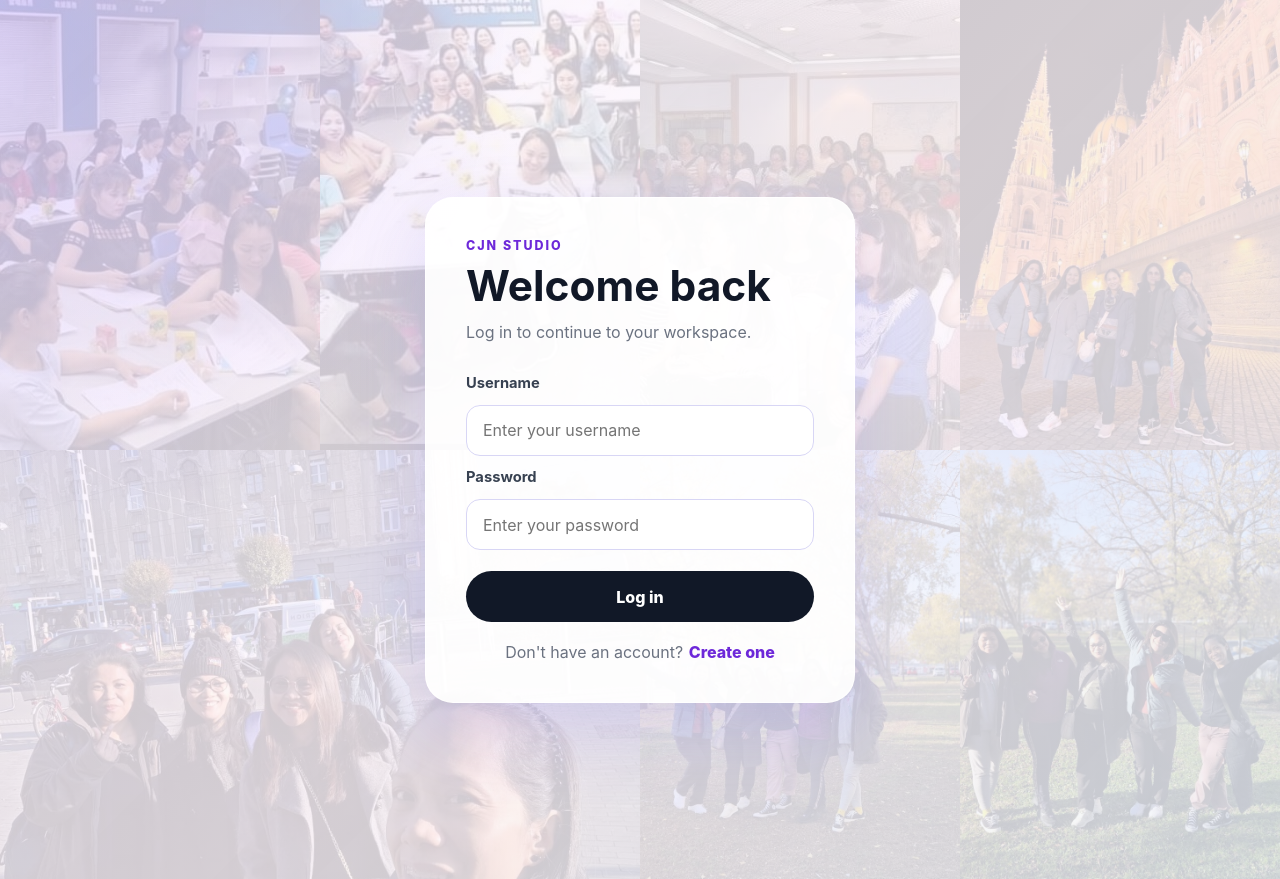
Test: shows applicant information when a suggested applicant name is clicked
This screenshot has width=1280, height=879.
Type "wendell" into the field labelled "Username".
click(640, 430); type("wendell")  # box [466,405,814,456]
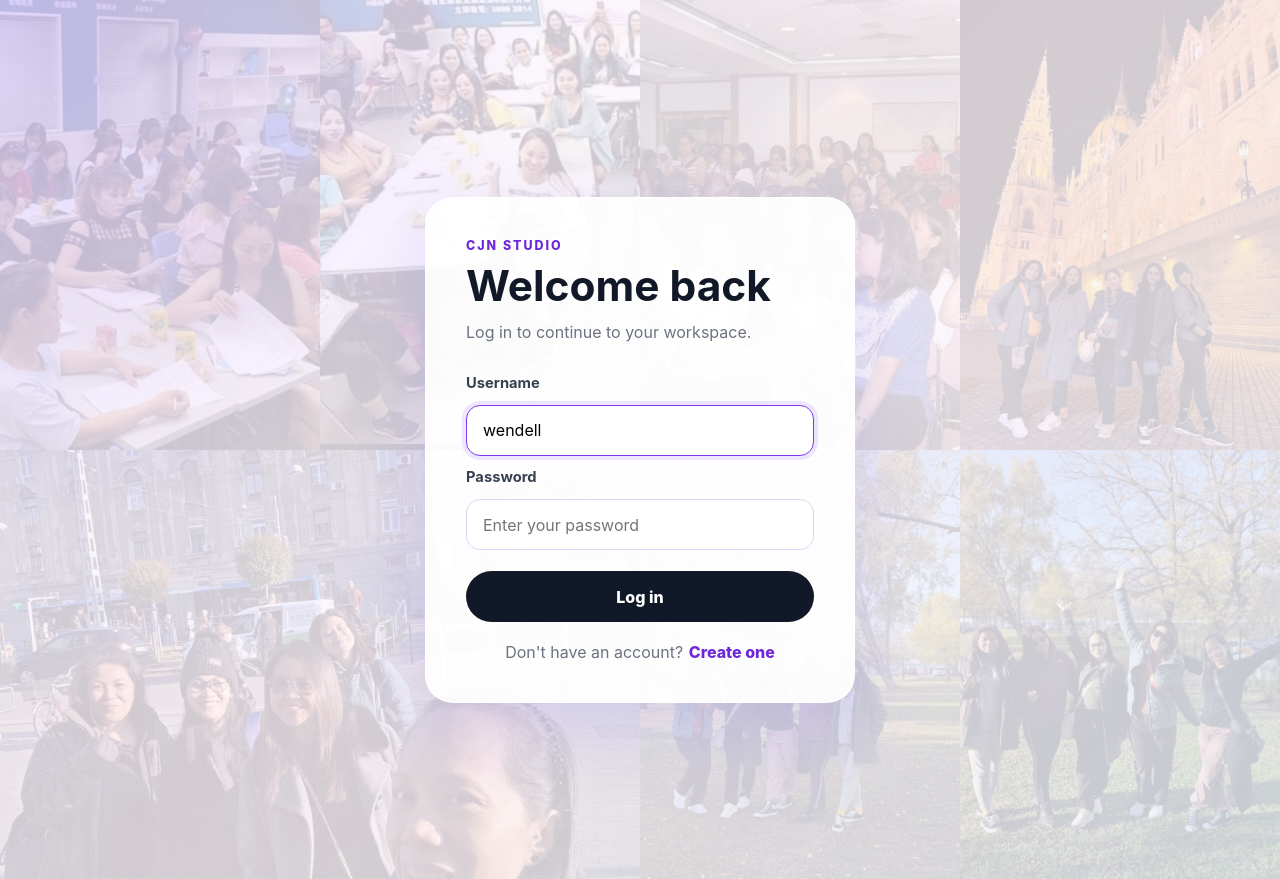
Type "password123" into the password field labelled "Password".
click(640, 524); type("password123")  # box [466,499,814,550]
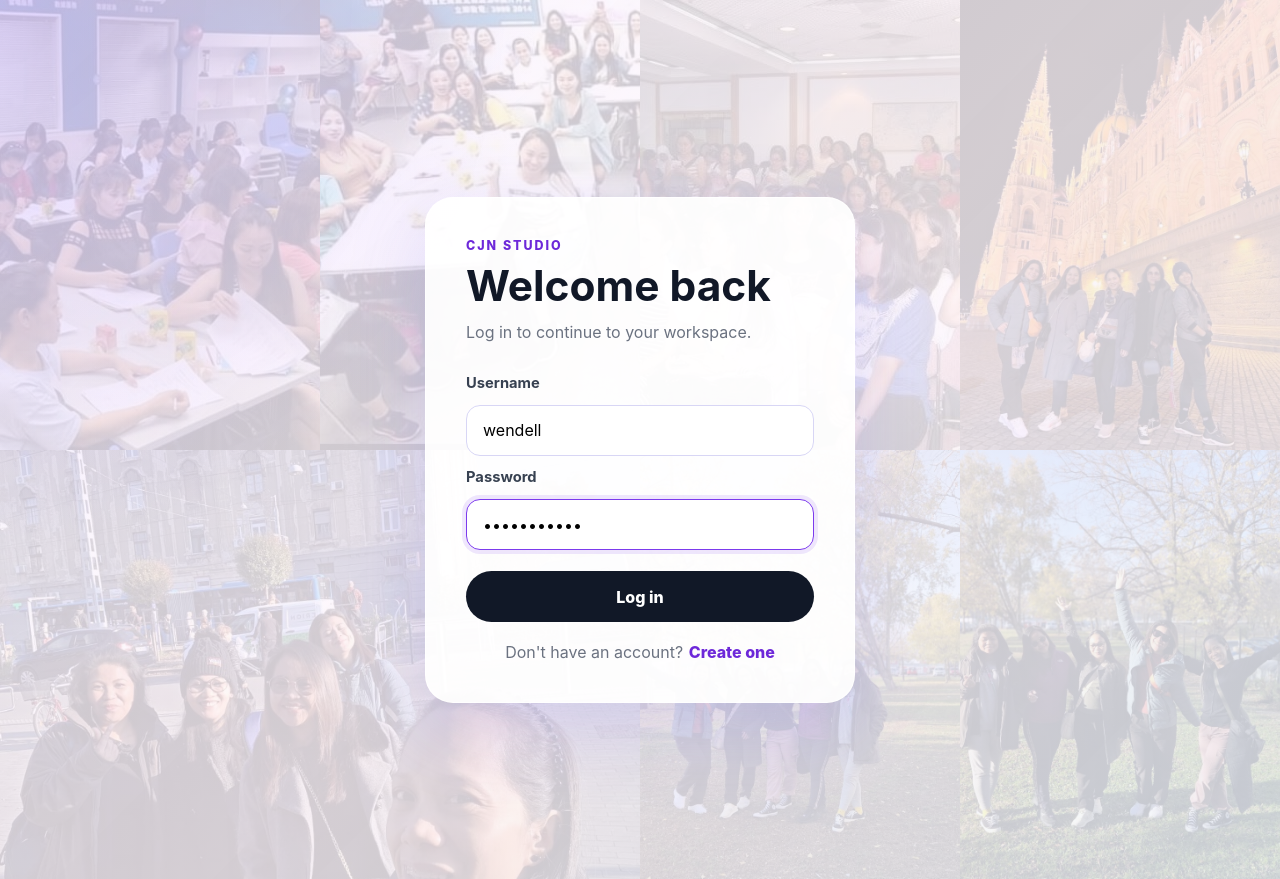
Click the button "Log in".
click(640, 597)  # box [466,572,814,622]
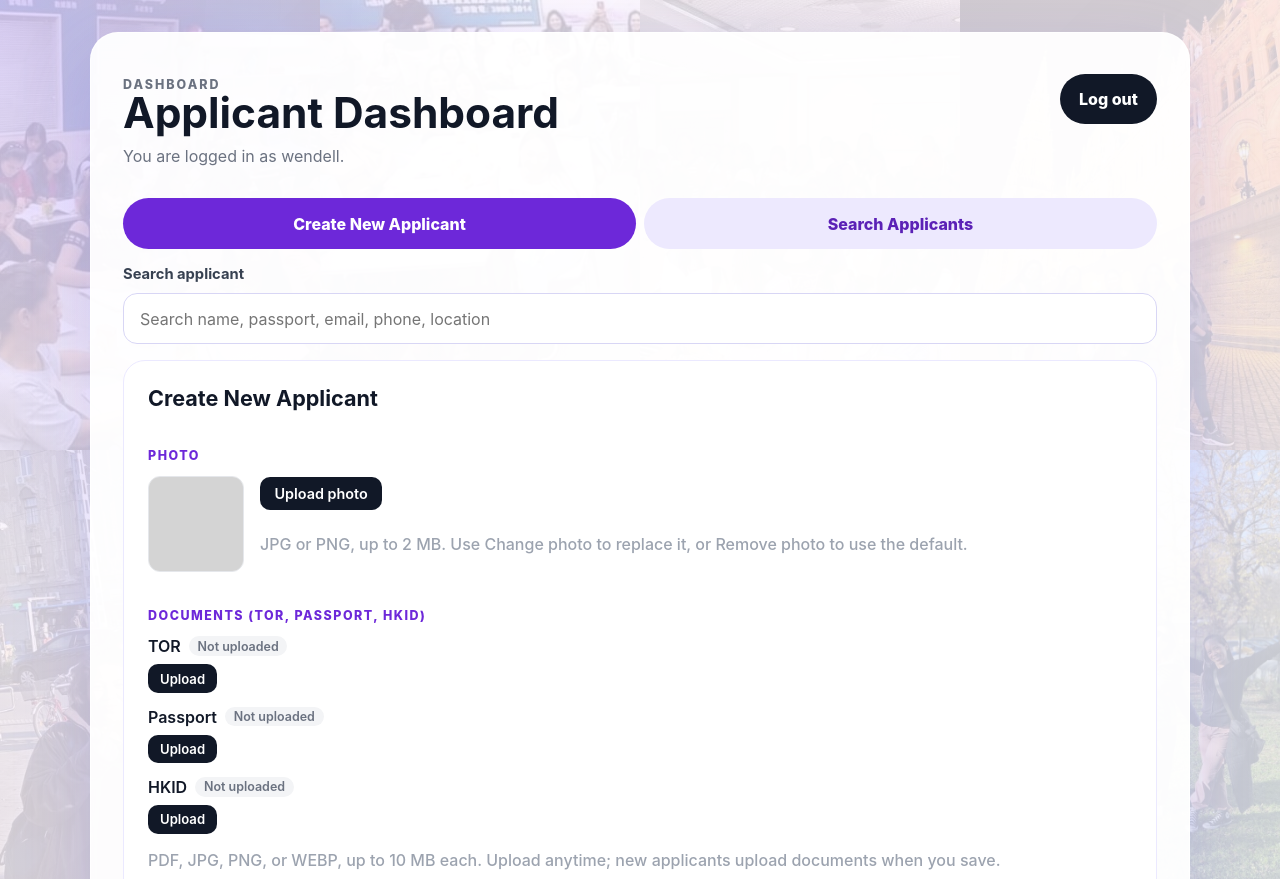
Type "Ju" into the field labelled "Search applicant".
click(640, 319); type("Ju")  # box [123,293,1157,344]
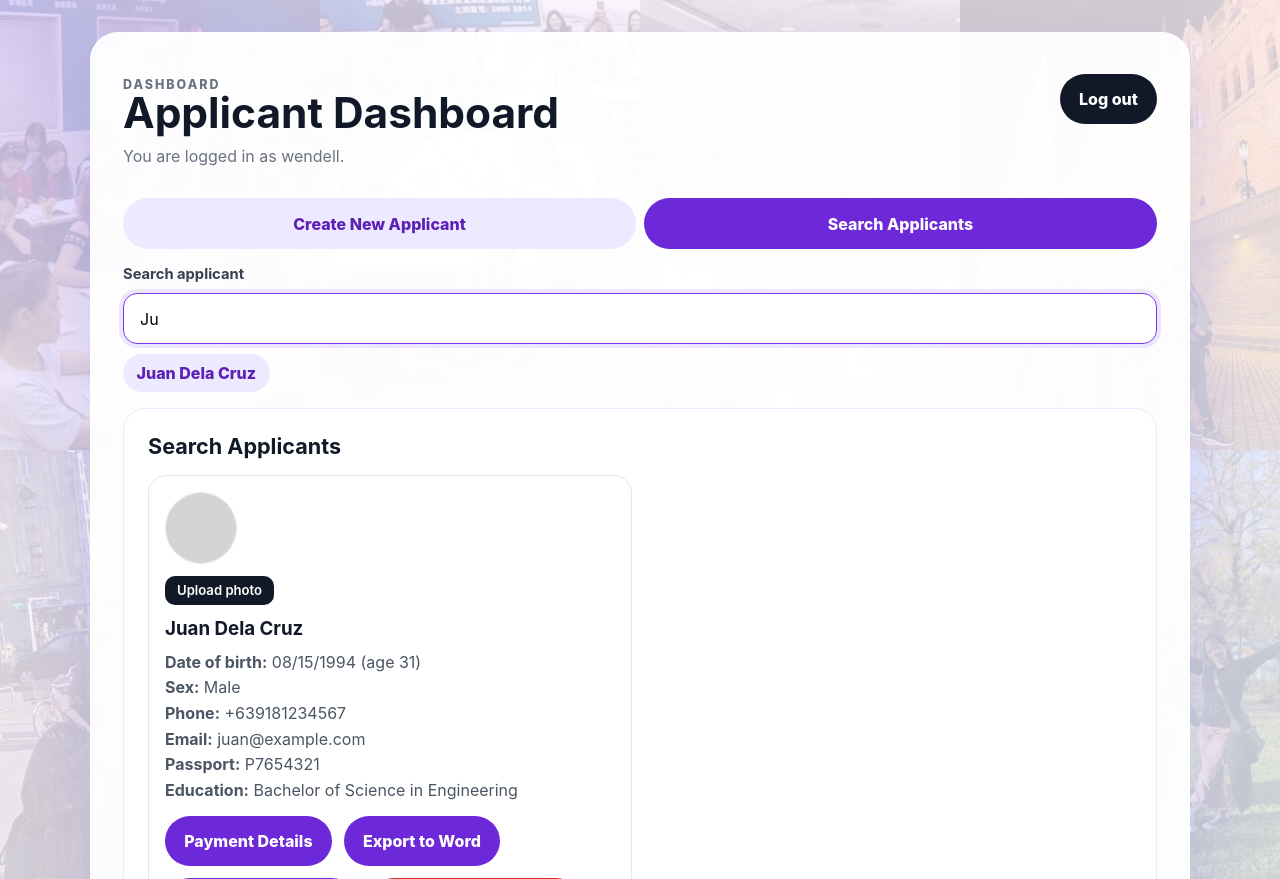
Click the button "Juan Dela Cruz".
click(196, 373)  # box [123,354,270,392]
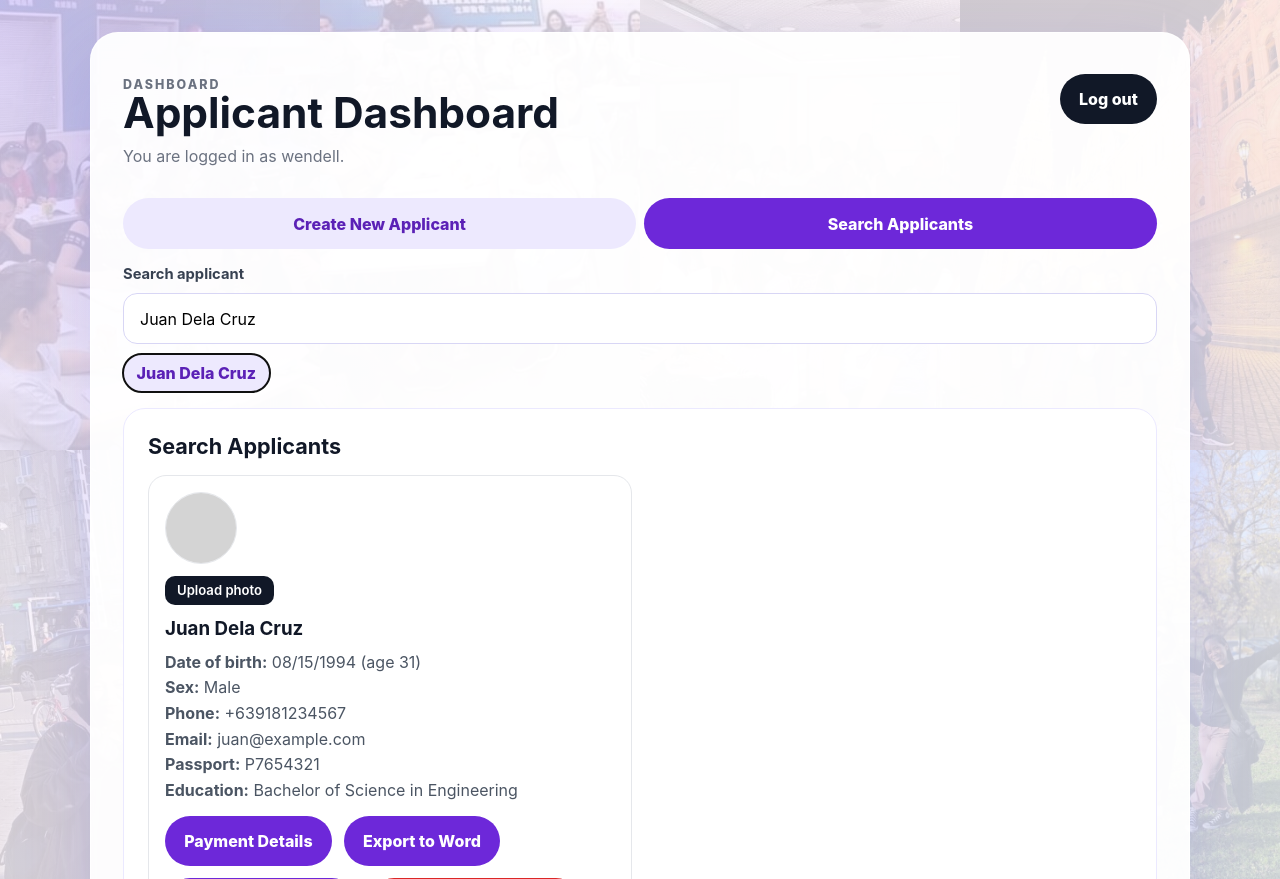
Expected: the number of buttons "Juan Dela Cruz" is 2, [123,354,270,392]; [165,617,303,640]
Expected: the field labelled "Search applicant" holds "Juan Dela Cruz", [123,293,1157,344]
